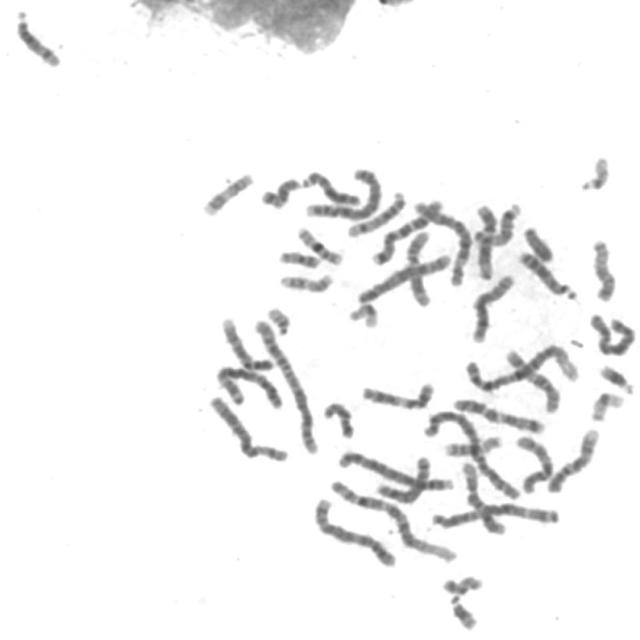A1: (324, 475, 460, 565), (461, 338, 583, 394)
A2: (250, 314, 321, 456), (419, 405, 522, 502)
A3: (426, 498, 564, 531), (210, 361, 286, 411)
B4: (332, 446, 456, 496), (300, 163, 384, 222)
B5: (309, 493, 399, 569), (352, 248, 454, 304)
C10: (500, 344, 562, 415), (511, 431, 555, 495)
C11: (357, 378, 437, 412), (402, 226, 434, 308)
C12: (457, 456, 509, 537), (471, 201, 499, 281)
C6: (205, 391, 290, 464), (410, 196, 473, 287)
C7: (367, 195, 447, 267), (448, 394, 547, 436)
C8: (465, 270, 518, 346), (371, 451, 433, 504)
C9: (543, 424, 602, 495), (217, 314, 275, 373)
D13: (514, 246, 580, 301), (298, 166, 362, 208)
D14: (342, 186, 408, 239), (11, 4, 64, 69)
D15: (468, 198, 523, 248), (588, 235, 619, 303)
E16: (292, 221, 345, 267), (440, 431, 506, 458)
E17: (198, 168, 255, 218), (275, 269, 335, 294)
E18: (256, 173, 303, 211), (318, 398, 356, 440)
F19: (586, 388, 626, 423), (344, 299, 381, 330)
F20: (438, 571, 484, 596), (274, 246, 322, 269)
G21: (595, 360, 637, 396), (445, 592, 479, 632)
G22: (575, 152, 612, 194), (262, 302, 292, 337)
X: (585, 310, 637, 358)
Y: (519, 222, 556, 264)
